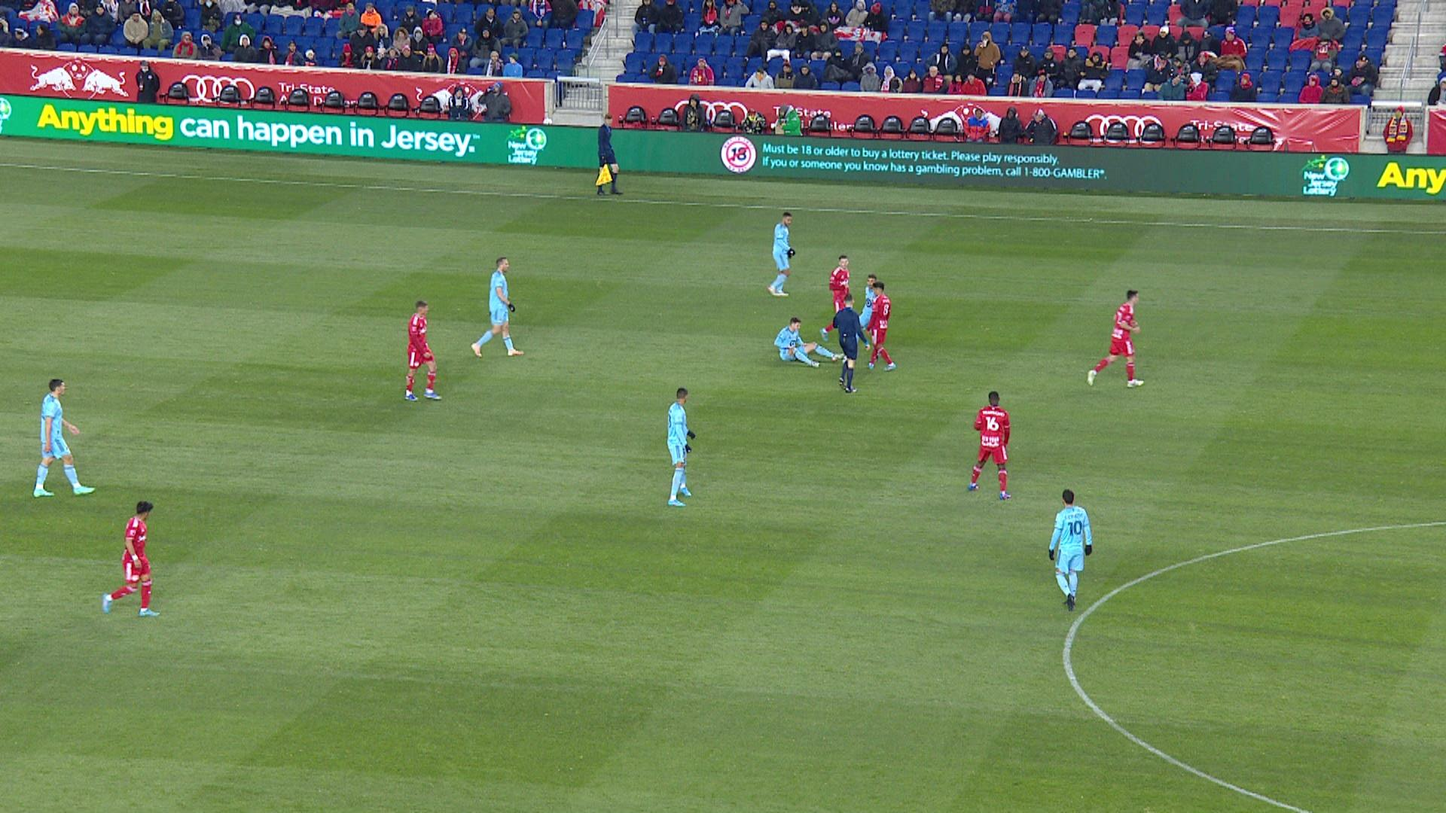Player: (34, 379, 95, 498), (102, 502, 160, 616), (1088, 291, 1144, 387), (471, 258, 524, 357), (1050, 490, 1091, 611), (968, 391, 1011, 499), (405, 301, 442, 401), (775, 318, 845, 367), (843, 275, 879, 363), (668, 388, 694, 506), (867, 282, 896, 371), (820, 256, 849, 341), (767, 213, 795, 297)
referee: (834, 293, 870, 393), (595, 114, 623, 196)
